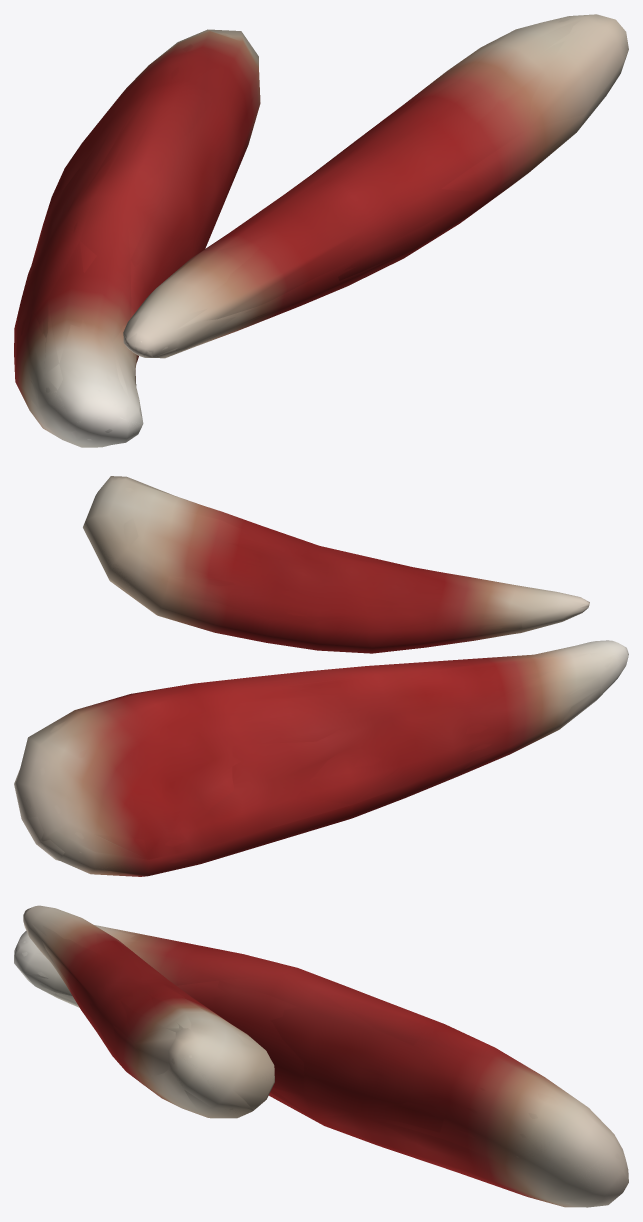
The model's file is R Gemelli.fbx.
The picture shows the model from 3 angles, top to bottom: view 1: azimuth 30°, elevation 25°; view 2: azimuth 150°, elevation 25°; view 3: azimuth 270°, elevation 25°; orthographic projection. The views are drawn at different scales.
Parts seen in each view (by area): view 1: R Gemelli, R Gemelli low, R Gemelli high; view 2: R Gemelli, R Gemelli low, R Gemelli high; view 3: R Gemelli, R Gemelli low, R Gemelli high.
Boxes of the visible parts, box(x1,y1,x2,y2) form: R Gemelli: box(14, 14, 628, 447); R Gemelli low: box(29, 16, 628, 440); R Gemelli high: box(16, 18, 624, 440); R Gemelli: box(14, 476, 628, 876); R Gemelli low: box(14, 477, 626, 876); R Gemelli high: box(26, 478, 610, 873); R Gemelli: box(14, 905, 628, 1207); R Gemelli low: box(14, 924, 628, 1206); R Gemelli high: box(17, 910, 619, 1203).
Bounding box in the file's own units: 1.48 × 0.7031 × 1.53.
Materials: 1 (1 with a texture image).
